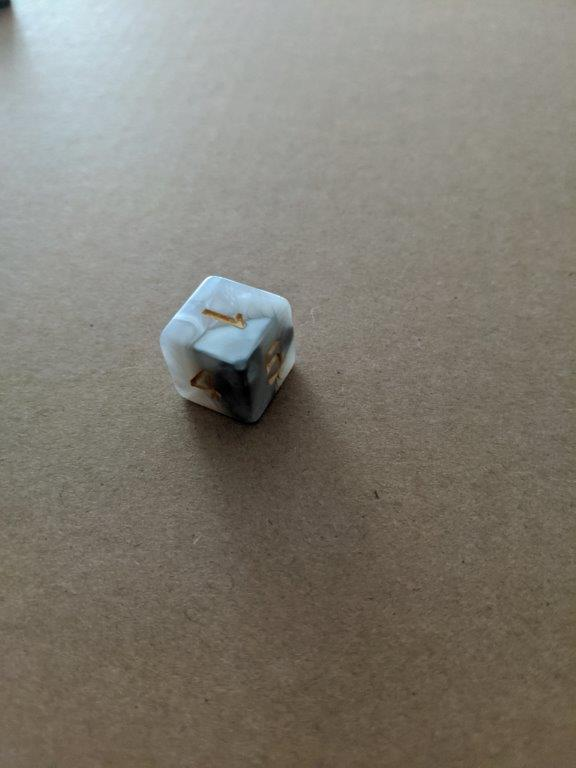d6-1: (158, 273, 298, 424)
